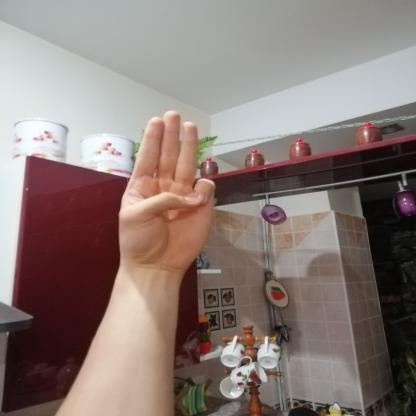THA: (98, 100, 226, 280)
